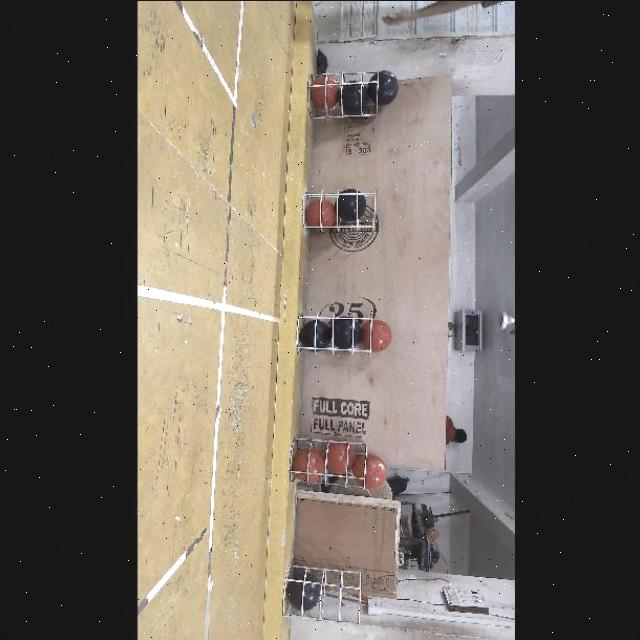P: (286, 574, 320, 610), (368, 69, 398, 105), (338, 81, 368, 115), (298, 319, 328, 349), (331, 316, 359, 348), (336, 188, 364, 220)
R: (352, 452, 386, 489), (292, 450, 326, 484), (308, 74, 339, 110), (324, 441, 356, 474), (360, 318, 392, 351), (308, 200, 334, 232)
S: (287, 562, 368, 624), (290, 430, 370, 486), (309, 68, 381, 122), (291, 310, 373, 352), (305, 189, 377, 235)
